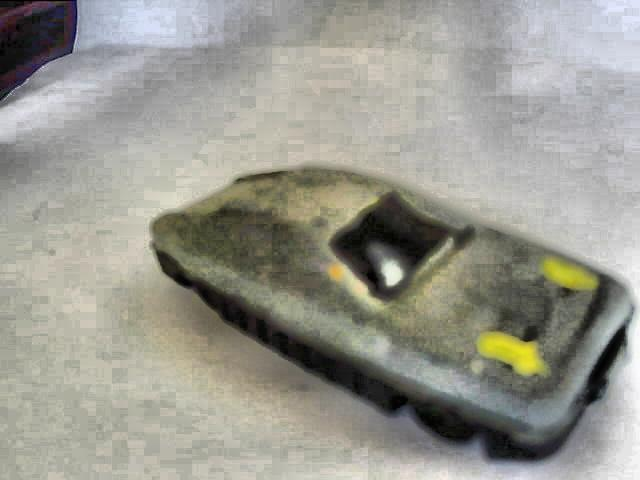normal_car: (145, 159, 638, 466)
